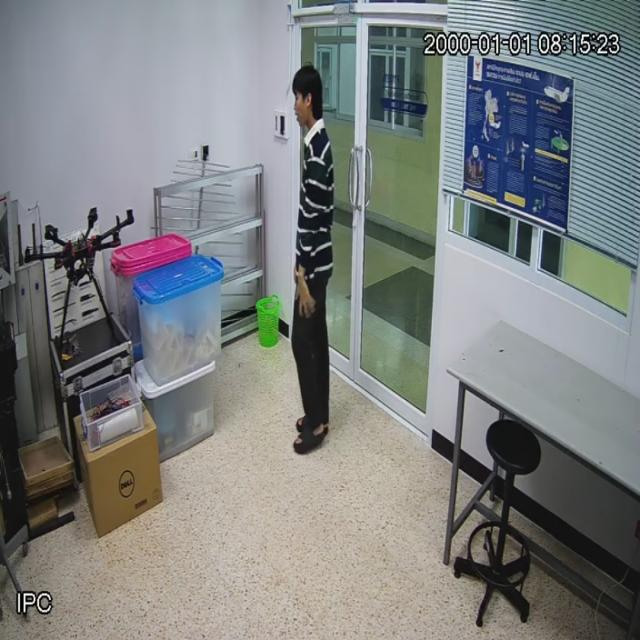normal: (278, 68, 354, 453)
